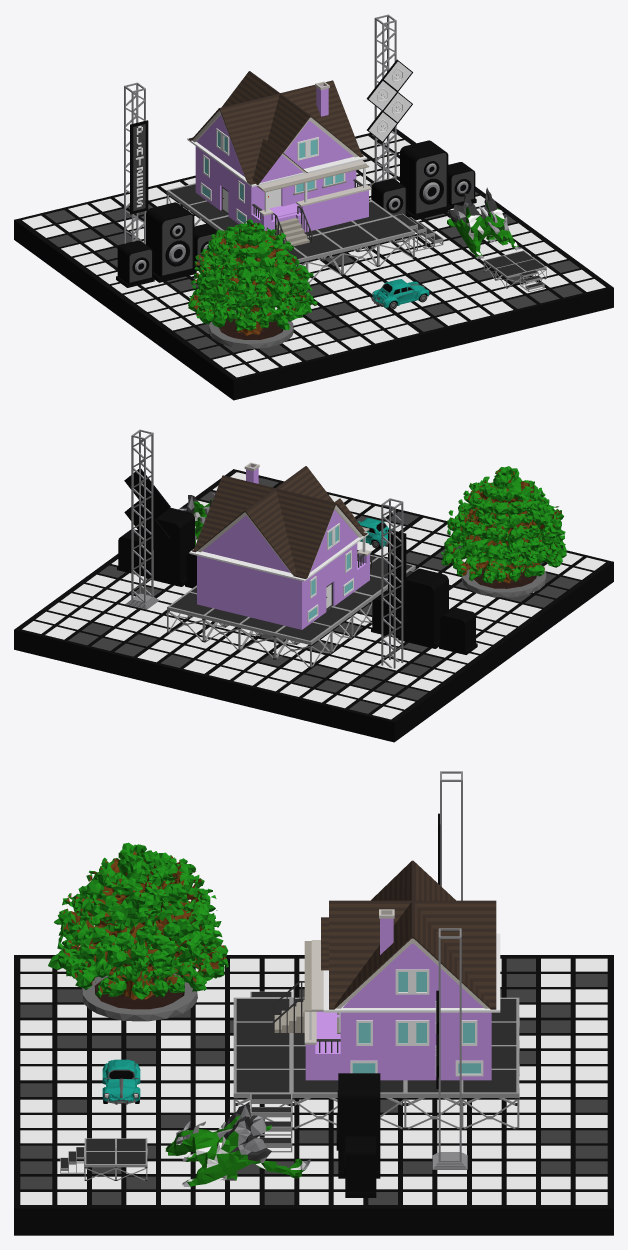
3 views of the same model, one above another, from view 1: azimuth 30°, elevation 25°; view 2: azimuth 150°, elevation 25°; view 3: azimuth 270°, elevation 25° (orthographic). The views are drawn at different scales.
Visible parts, largest first — view 1: Cube.008, Cube.391, OBJRANDOM_CEIBA, ANIMAL_DRAGON, VEHICLES_VOLKSWAGEN; view 2: Cube.008, Cube.391, OBJRANDOM_CEIBA, VEHICLES_VOLKSWAGEN, ANIMAL_DRAGON; view 3: Cube.008, Cube.391, OBJRANDOM_CEIBA, ANIMAL_DRAGON, VEHICLES_VOLKSWAGEN.
Boxes of the visible parts, x1,y1,x2,y2 form: Cube.008: (14,14,613,400); Cube.391: (187,71,371,246); OBJRANDOM_CEIBA: (188,219,317,348); ANIMAL_DRAGON: (447,187,521,258); VEHICLES_VOLKSWAGEN: (371,279,429,309); Cube.008: (14,429,613,742); Cube.391: (189,462,372,629); OBJRANDOM_CEIBA: (441,466,566,597); VEHICLES_VOLKSWAGEN: (358,518,391,548); ANIMAL_DRAGON: (179,492,214,545); Cube.008: (14,771,613,1235); Cube.391: (272,860,500,1080); OBJRANDOM_CEIBA: (48,842,228,1021); ANIMAL_DRAGON: (165,1102,310,1186); VEHICLES_VOLKSWAGEN: (102,1059,140,1104).
Bounding box in the file's own units: 4000 × 2124 × 4000.
40 materials, 1 textured.
